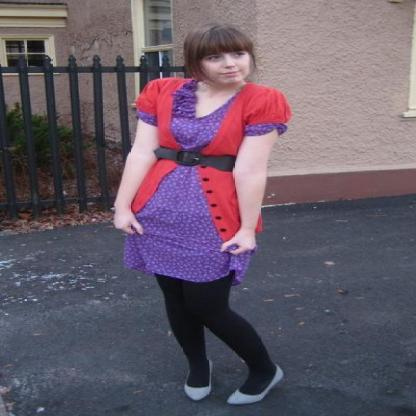dress: (123, 79, 286, 282)
jacket: (129, 75, 291, 240)
shoe: (184, 365, 283, 403)
